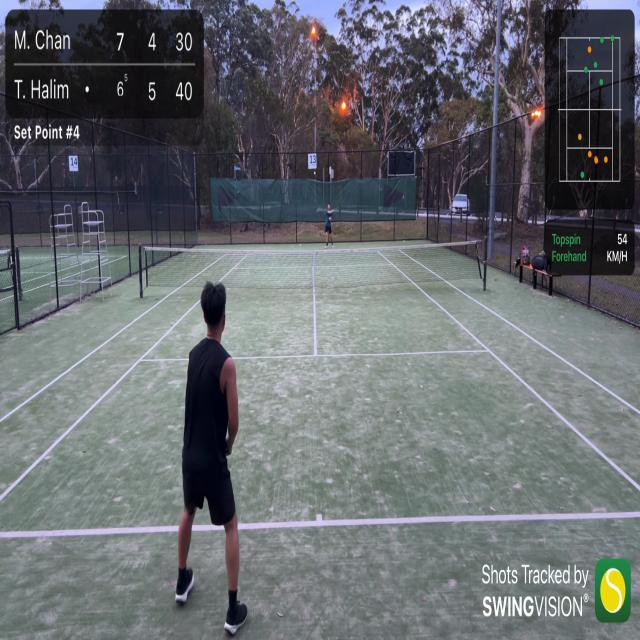ball: (313, 170, 316, 176), (403, 239, 405, 243), (299, 243, 301, 246)
